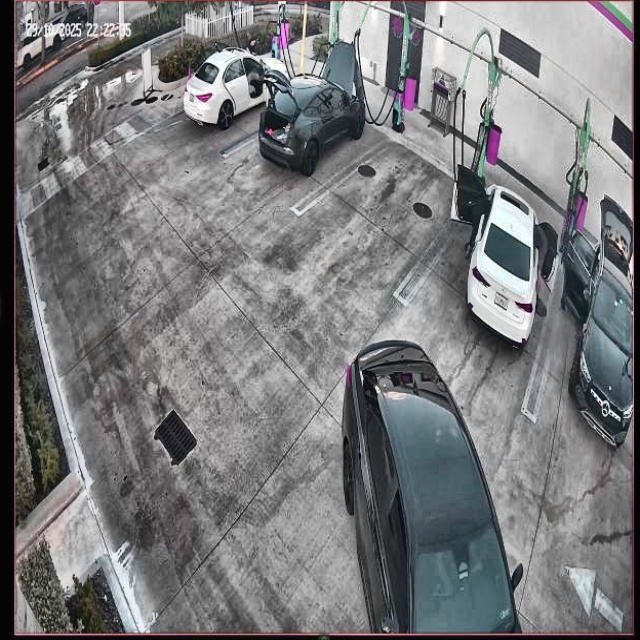Car: (333, 321, 524, 634), (452, 164, 558, 345), (259, 40, 365, 174)
